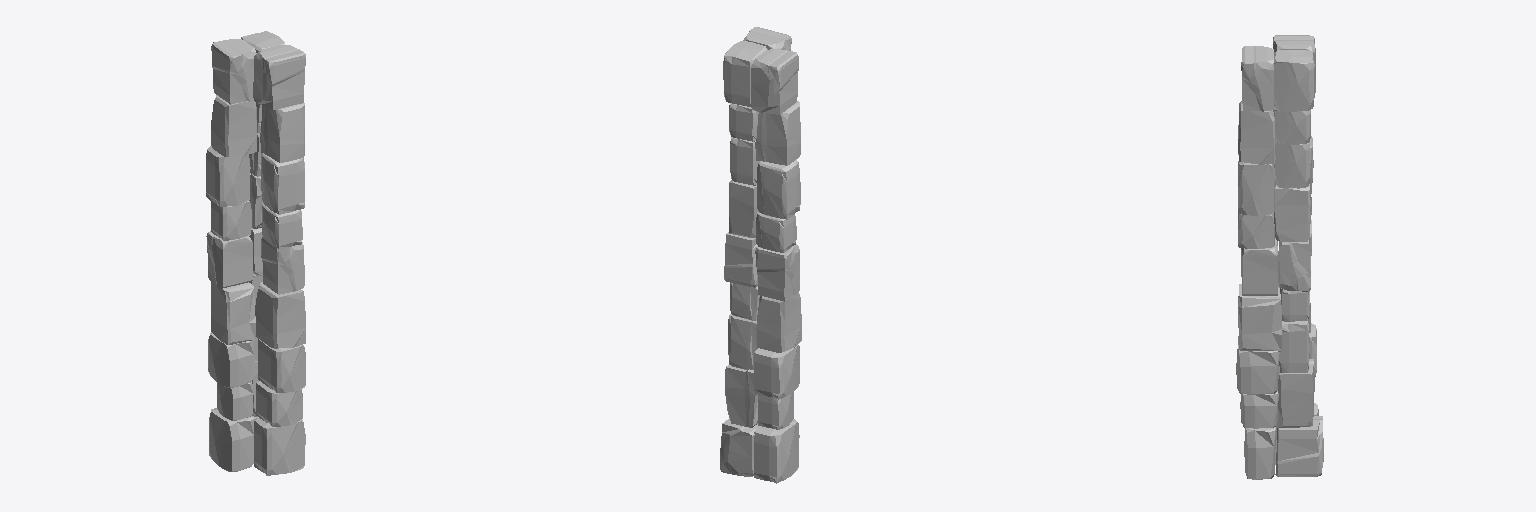
File: Corner_Exterior_Brick.obj
3 views of the same model, side by side, from view 1: azimuth 30°, elevation 25°; view 2: azimuth 150°, elevation 25°; view 3: azimuth 270°, elevation 25° (orthographic).
Visible parts, largest first — view 1: Corner_Exterior_Brick; view 2: Corner_Exterior_Brick; view 3: Corner_Exterior_Brick.
Part boxes in pixels (left/top/right/bottom): Corner_Exterior_Brick: left=206, top=31, right=305, bottom=475; Corner_Exterior_Brick: left=720, top=27, right=801, bottom=483; Corner_Exterior_Brick: left=1236, top=35, right=1323, bottom=479.
Bounding box in the file's own units: 0.5307 × 3.02 × 0.5758.